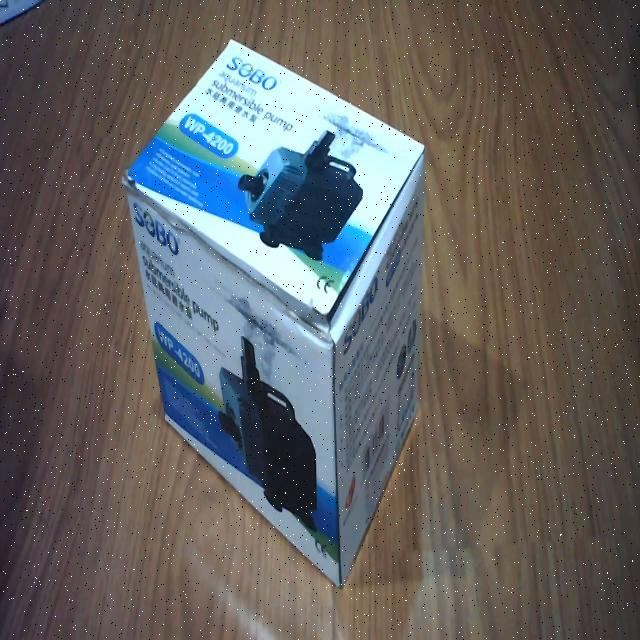SOBO_WP_4200: (120, 33, 430, 596)
